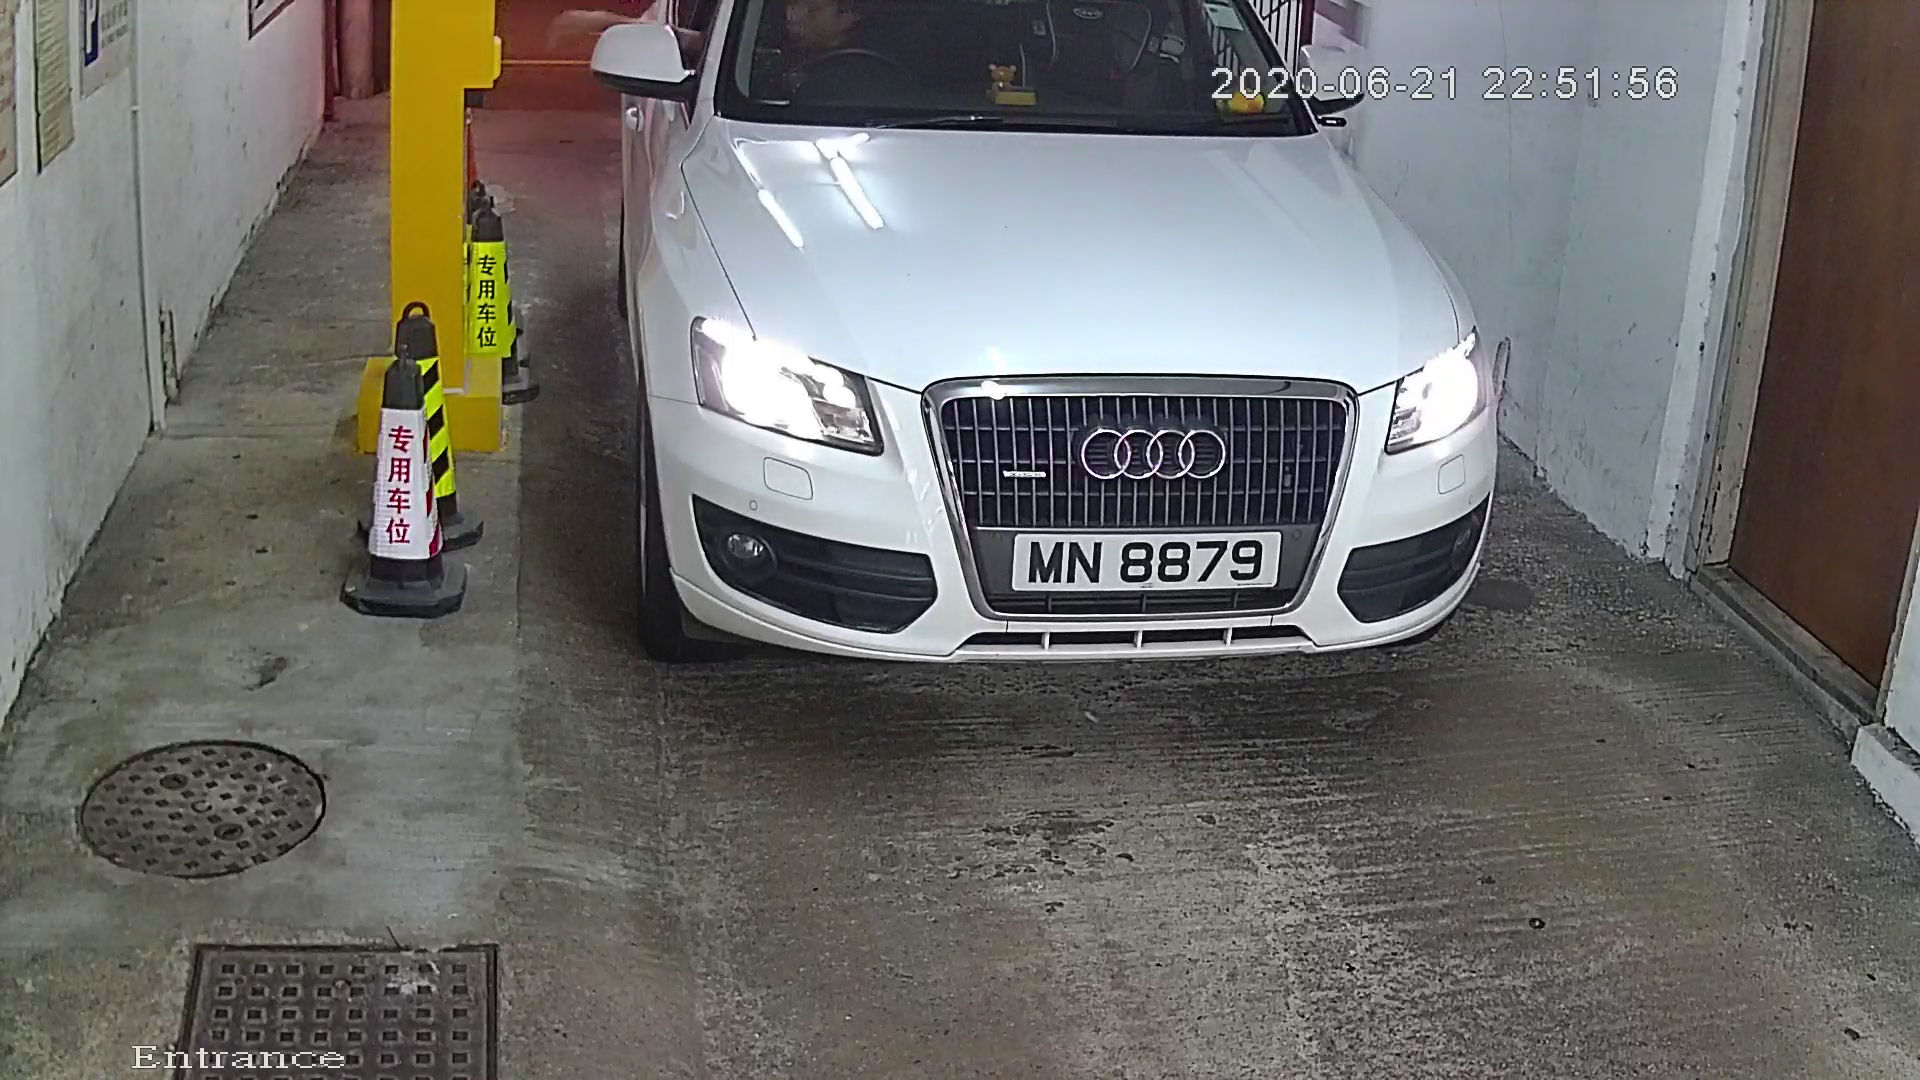privatecar: (592, 1, 1543, 715)
